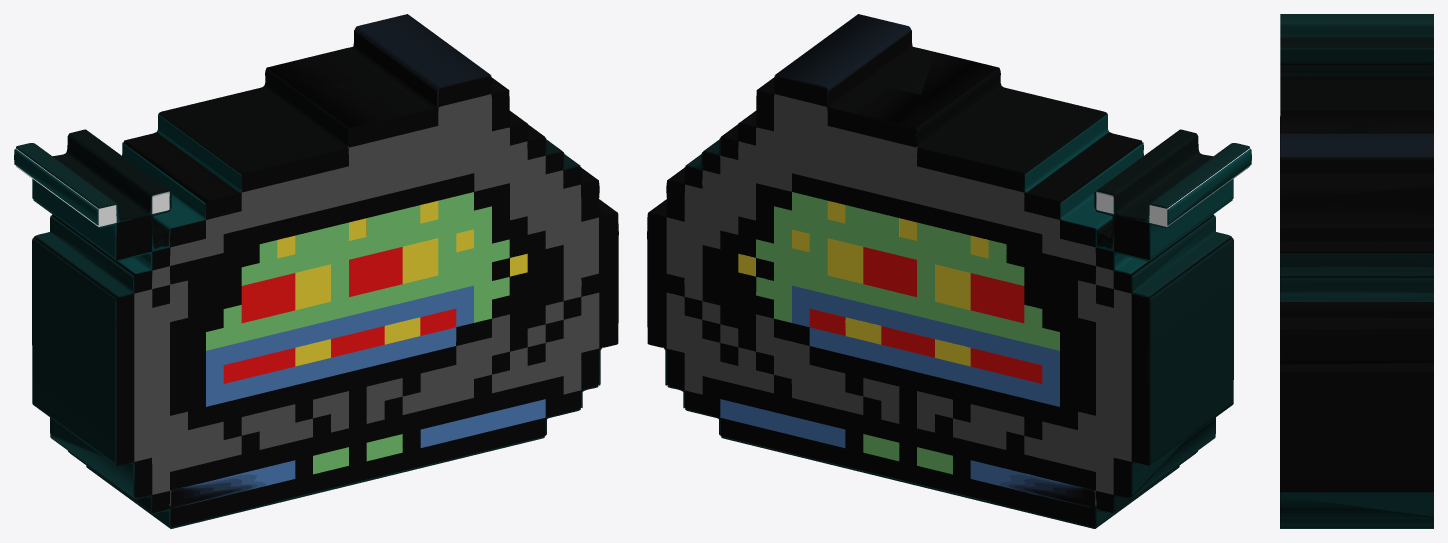
The model's file is Toadz_6552.glb.
The picture shows the model from 3 angles, left to right: view 1: azimuth 30°, elevation 25°; view 2: azimuth 150°, elevation 25°; view 3: azimuth 270°, elevation 25°; orthographic projection. The views are drawn at different scales.
Parts seen in each view (by area): view 1: Curve; view 2: Curve; view 3: Curve.
Boxes of the visible parts, x1=… form: Curve: x1=14, y1=14, x2=618, y2=528; Curve: x1=647, y1=14, x2=1251, y2=528; Curve: x1=1280, y1=14, x2=1433, y2=528.
Size of the model in its own units: 3.63 by 2.5 by 1.
